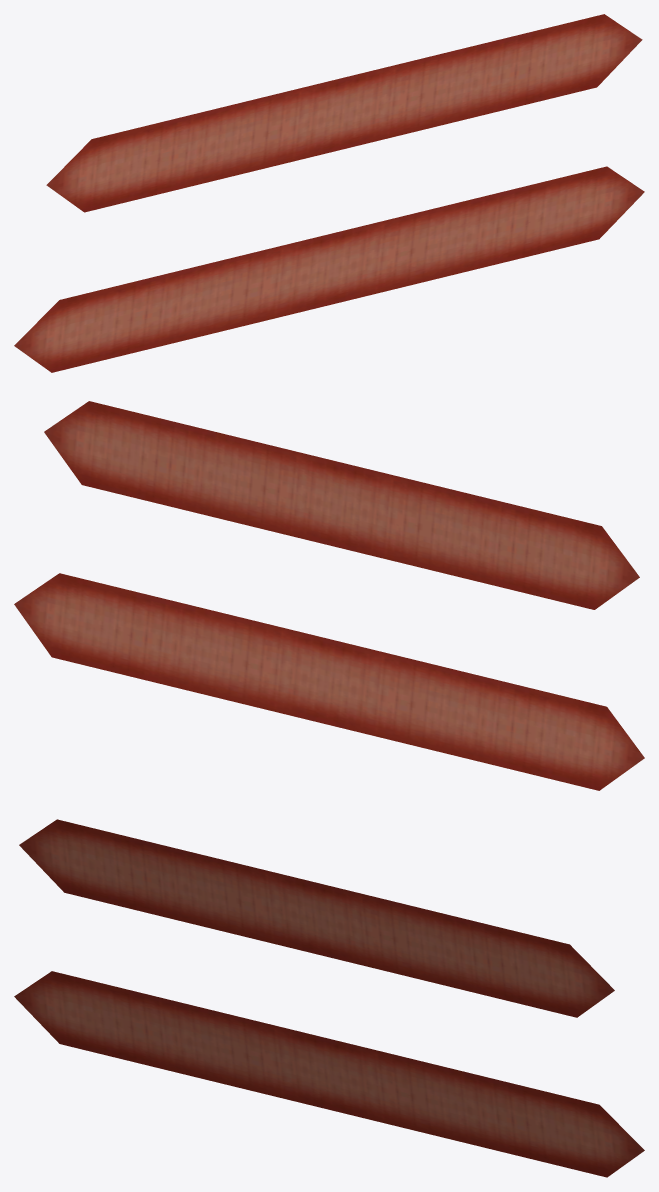
File: vt49_engine_s02_on_l2.fbx
3 renders of one model, top to bottom at view 1: azimuth 30°, elevation 25°; view 2: azimuth 150°, elevation 25°; view 3: azimuth 330°, elevation 25°, orthographic.
Parts seen in each view (by area): view 1: mesh_node; view 2: mesh_node; view 3: mesh_node.
Boxes of the visible parts, box(x1,y1,x2,y2) form: mesh_node: box(14, 14, 644, 372); mesh_node: box(14, 401, 644, 790); mesh_node: box(14, 819, 644, 1177).
Size of the model in its own units: 7.75 by 2.87 by 0.4519.
1 material, 1 textured.
